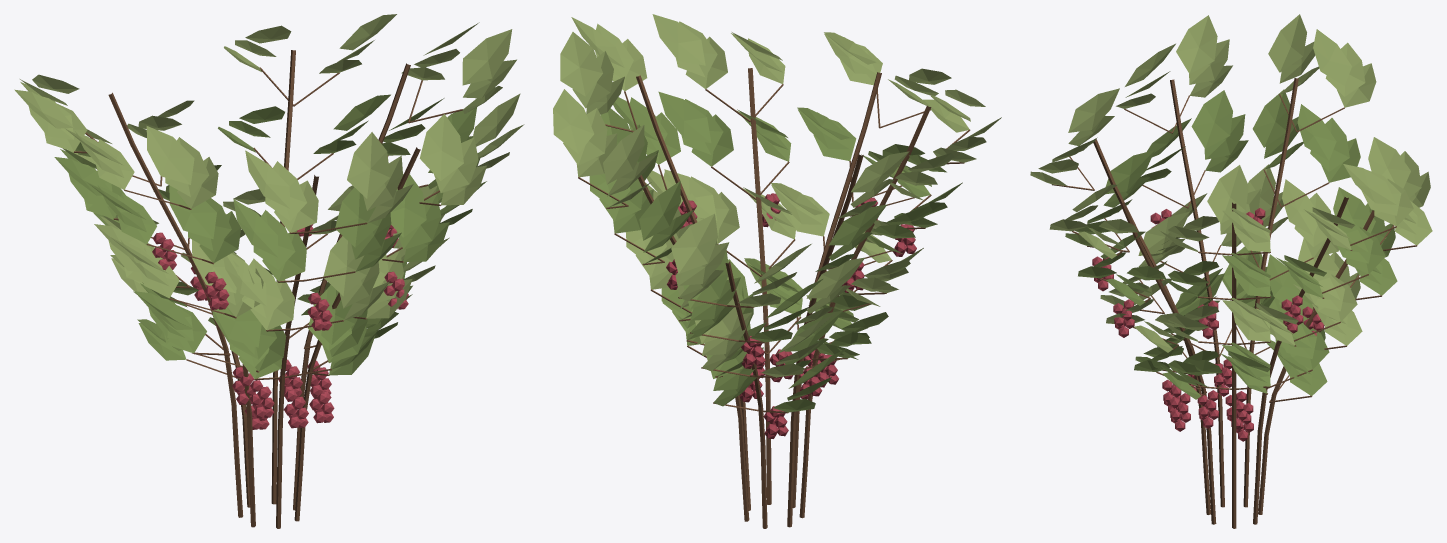
The model's file is wildberry.glb.
3 renders of one model, left to right at view 1: azimuth 30°, elevation 25°; view 2: azimuth 150°, elevation 25°; view 3: azimuth 270°, elevation 25°, orthographic. The views are drawn at different scales.
Parts seen in each view (by area): view 1: raspberry layered leaf 0 2 -1 0, raspberry layered leaf 0 1 -1 0, raspberry cane 0, raspberry fruit 0 1 drupelet 0; view 2: raspberry layered leaf 0 2 -1 0, raspberry layered leaf 0 1 -1 0, raspberry cane 0, raspberry fruit 0 1 drupelet 0; view 3: raspberry layered leaf 0 2 -1 0, raspberry layered leaf 0 1 -1 0, raspberry cane 0, raspberry fruit 0 1 drupelet 0.
Boxes of the visible parts, bbox=[...] form: raspberry layered leaf 0 2 -1 0: bbox=[14, 14, 524, 330]; raspberry layered leaf 0 1 -1 0: bbox=[54, 94, 486, 378]; raspberry cane 0: bbox=[73, 50, 462, 528]; raspberry fruit 0 1 drupelet 0: bbox=[152, 224, 408, 429]; raspberry layered leaf 0 2 -1 0: bbox=[553, 14, 1001, 377]; raspberry layered leaf 0 1 -1 0: bbox=[589, 91, 962, 412]; raspberry cane 0: bbox=[578, 68, 970, 528]; raspberry fruit 0 1 drupelet 0: bbox=[666, 193, 916, 438]; raspberry layered leaf 0 2 -1 0: bbox=[1030, 14, 1432, 352]; raspberry layered leaf 0 1 -1 0: bbox=[1065, 89, 1397, 399]; raspberry cane 0: bbox=[1052, 78, 1417, 528]; raspberry fruit 0 1 drupelet 0: bbox=[1092, 208, 1324, 441].
Bounding box in the file's own units: 0.9616 × 0.9367 × 0.8394.
